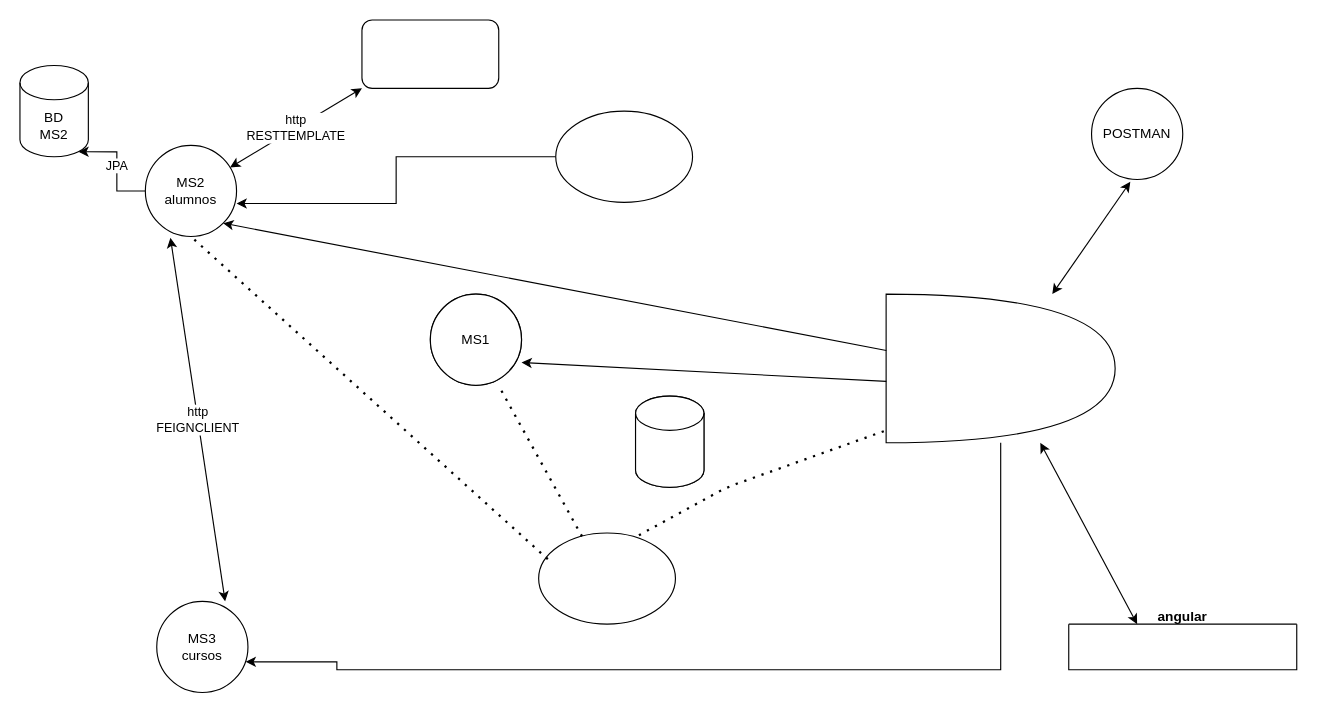
This 1317x713 diagram has some shape labels left out. The box of each missing label's shape, as (x1, y1, x2, y2) in pixels:
DAME CURSO DE ESTE ALUMNO: (555, 110, 693, 202)
EUREKA DNS: (538, 532, 675, 624)
GATEWAY: (885, 293, 1115, 443)
PAYPAL CHUCK NORRIS: (361, 19, 499, 88)
